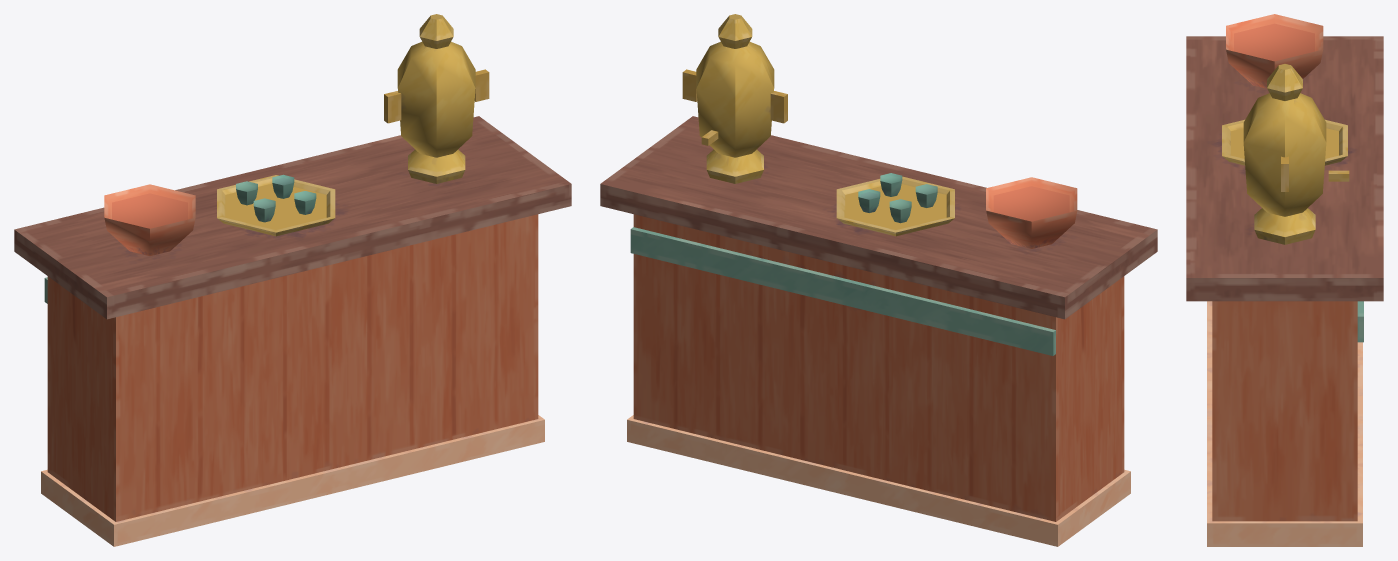
Rendered from counter_low.fbx.
3 renders of one model, left to right at view 1: azimuth 30°, elevation 25°; view 2: azimuth 150°, elevation 25°; view 3: azimuth 270°, elevation 25°, orthographic. The views are drawn at different scales.
Visible parts, largest first — view 1: counter; view 2: counter; view 3: counter.
Part boxes in pixels (bbox=[...]): counter: bbox=[14, 14, 571, 546]; counter: bbox=[600, 14, 1157, 546]; counter: bbox=[1186, 14, 1383, 546].
Size of the model in its own units: 5.5 by 4.7 by 1.9.
Materials: 1 (1 with a texture image).
